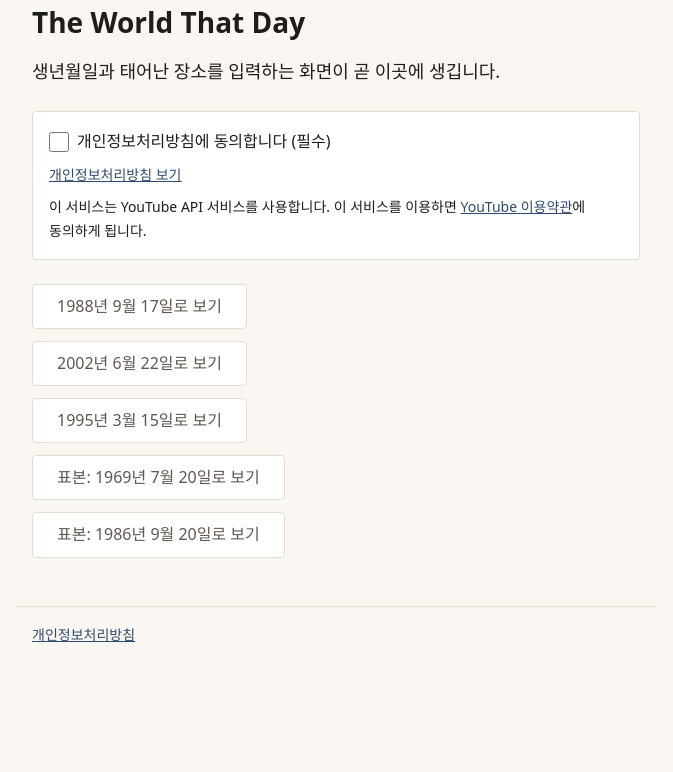
demo 1988-09-17 (데모 표 1행) › media fixture: event ① has two inline photos with honest date lines, day_media is outside the list
Click the checkbox labelled "개인정보처리방침에 동의합니다 (필수)".
click(59, 142)  # box [49,132,69,152]
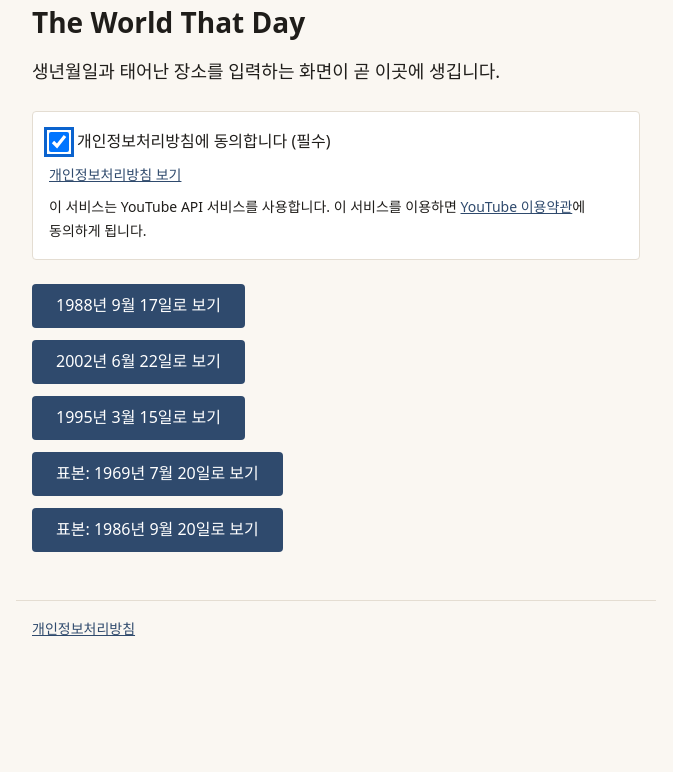
Click the button "1988년 9월 17일로 보기".
click(138, 306)  # box [32,284,245,328]
(page scrolled)
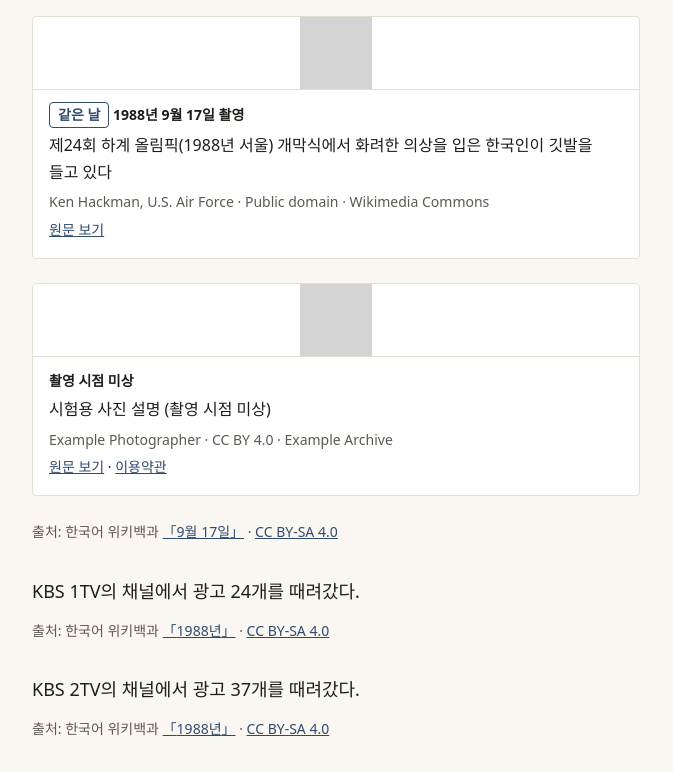
Now the number of pictures is 4
Now the text "같은 날" is shown, box [49,102,109,128]
Now the text "촬영 시점 미상" is shown, box [49,371,134,390]
